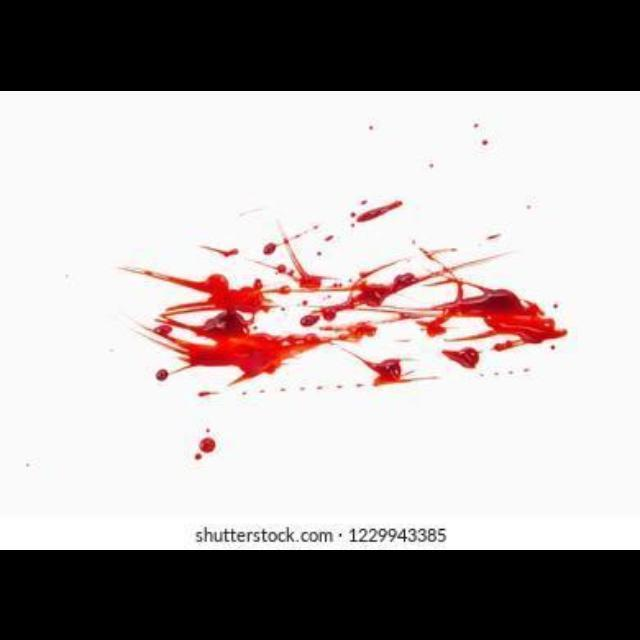blood: (121, 220, 569, 385), (356, 201, 404, 220), (199, 436, 217, 453), (156, 369, 169, 380), (197, 393, 217, 396), (195, 453, 203, 460)
